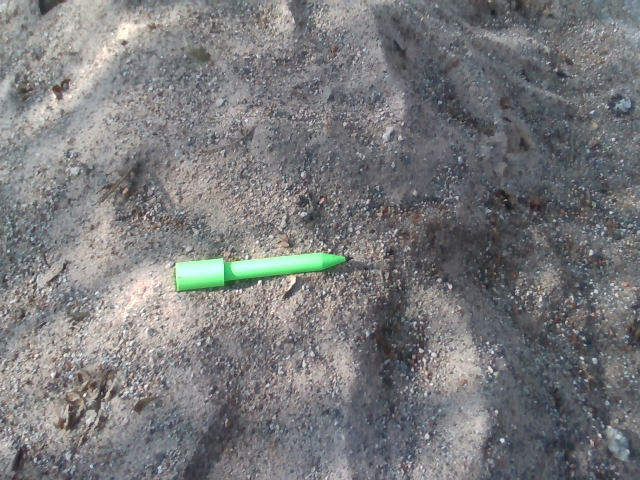Probe: (167, 245, 362, 299)
